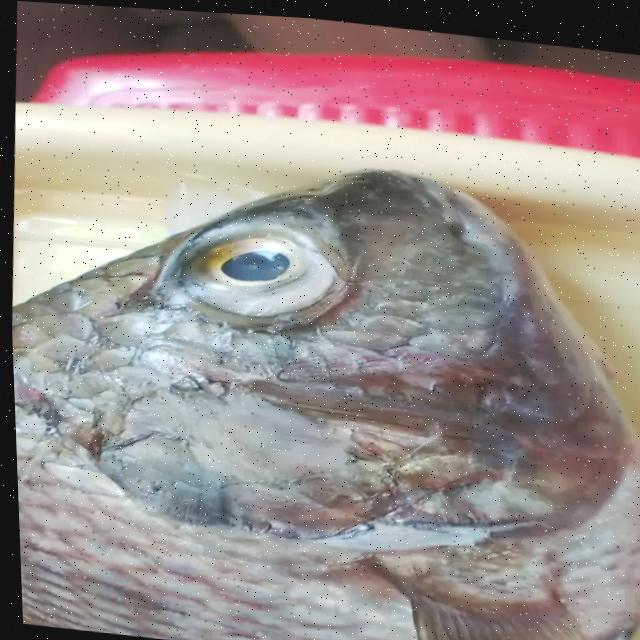Fresh: (151, 189, 362, 329)
